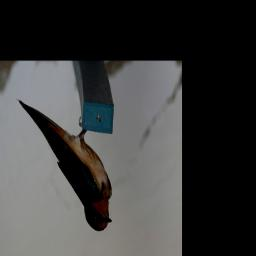Swallow: (16, 97, 115, 234)
